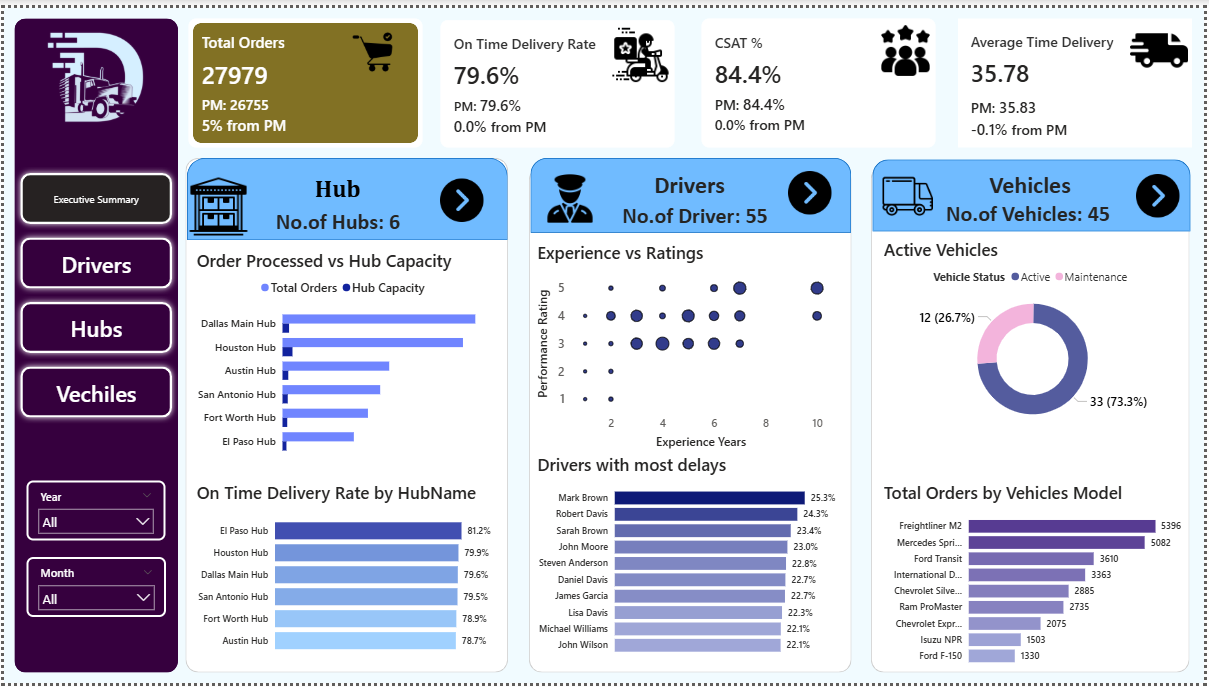

This screenshot's page, from the dashboard's own definition file:
{"tool":"powerbi","page":{"name":"Executive Summary","canvas":[1600,900],"ordinal":0},"visuals":[{"type":"group","id":"g1","title":"Group 2","box":[700,199.9,430,686.1],"z":0,"group":"g4"},{"type":"group","id":"g2","title":"Group 4","box":[242,200,430,686],"z":0},{"type":"shape","box":[14,14,218,872],"z":1000},{"type":"cardVisual","fields":{"Data":["Measure.Total Orders"]},"box":[246,14,312,172],"z":2000},{"type":"cardVisual","fields":{"Data":["Measure.On Time Delivery Rate"]},"box":[582,16.1,312,169.9],"z":3000},{"type":"image","box":[14,14,218,166],"z":4000},{"type":"clusteredBarChart","title":"Order Processed vs Hub Capacity","fields":{"Category":["Hubs.HubName"],"Y":["Hubs.Measure","Sum(Hubs.Hub Capacity)"]},"box":[252,320,404,288],"z":5000},{"type":"shape","box":[242,200,430,686],"z":6000,"group":"g2"},{"type":"shape","box":[1156,210,424.5,676],"z":6000,"group":"g6"},{"type":"shape","box":[700,211.9,430,674.1],"z":6000,"group":"g5"},{"type":"clusteredBarChart","fields":{"Category":["Hubs.HubName"],"Y":["Measure.On Time Delivery Rate"]},"box":[252,630,404,242],"z":6000},{"type":"shape","box":[702,199.9,427.5,99.7],"z":7000,"group":"g5"},{"type":"shape","box":[244,200,427.5,109.6],"z":7000,"group":"g2"},{"type":"shape","box":[1158,202,424,96],"z":7000,"group":"g6"},{"type":"card","fields":{"Values":["Measure.No.Of Hub"]},"box":[252,216,386,134],"z":7000},{"type":"cardVisual","fields":{"Data":["Measure.CSAT %"]},"box":[930,14,312,172],"z":8000},{"type":"cardVisual","fields":{"Data":["Measure.Average Time Delivery"]},"box":[1272,14,312,172],"z":9000},{"type":"textbox","box":[326,216,238,86],"z":10000},{"type":"group","id":"g3","title":"Group 2","box":[1156,202,426,684],"z":11000},{"type":"textbox","box":[1216.7,230,247.3,86],"z":11000,"group":"g3"},{"type":"textbox","box":[775.8,231.8,236.1,85.8],"z":11000,"group":"g1"},{"type":"group","id":"g4","title":"Group 3","box":[700,199.9,430,686.1],"z":12000},{"type":"textbox","box":[1278,210,180,66],"z":13000},{"type":"card","fields":{"Values":["Measure.No.of Vehicles"]},"box":[1130,230,470,86],"z":14000},{"type":"group","id":"g5","title":"Group 1","box":[700,199.9,430,686.1],"z":14001,"group":"g1"},{"type":"group","id":"g6","title":"Group 1","box":[1156,202,426,684],"z":14001,"group":"g3"},{"type":"textbox","box":[824,210,180,66],"z":15000,"group":"g4"},{"type":"clusteredBarChart","title":"Drivers with most delays","fields":{"Category":["Drivers.DriverName"],"Y":["Date Table.Delay Delivery Rate"]},"box":[706,592,408,280],"z":15000},{"type":"card","fields":{"Values":["Measure.No.Of Driver"]},"box":[728,238,386,76],"z":16000,"group":"g4"},{"type":"scatterChart","title":"Experience vs Ratings","fields":{"X":["Drivers.Experience Years"],"Y":["Drivers.Performance Rating"],"Size":["Sum(Drivers.Experience Years)1"]},"box":[706,310,408,282],"z":16000},{"type":"barChart","fields":{"Category":["Vehicles.Vehicle Model"],"Y":["Measure.Total Orders"]},"box":[1168,630,406,256],"z":17000},{"type":"donutChart","title":"Active Vehicles","fields":{"Category":["Vehicles.Vehicle Status"],"Y":["CountNonNull(Vehicles.Vehicle ID)"]},"box":[1168,306,406,262],"z":17003,"group":"g6"},{"type":"image","box":[1012,212,124,68],"z":18000},{"type":"image","box":[548,222,124,68],"z":19000},{"type":"image","box":[1476,216,124,68],"z":20000},{"type":"pageNavigator","box":[14,212,218,344],"z":21000},{"type":"slicer","fields":{"Values":["Date Table.Year"]},"box":[30,630,185,80],"z":22000},{"type":"slicer","fields":{"Values":["Date Table.Month"]},"box":[30,732,186,80],"z":23000},{"type":"image","box":[445,25,90,65],"z":24000},{"type":"image","box":[1157.5,7.5,87.5,97.5],"z":25000},{"type":"image","box":[785,15,125,90],"z":26000},{"type":"image","box":[1495,7.5,87.5,97.5],"z":27000},{"type":"image","box":[242.5,215,87.5,97.5],"z":28000},{"type":"image","box":[705,210,97.5,87.5],"z":29000},{"type":"image","box":[1165,202.5,77.5,97.5],"z":30000}]}

Visuals, with their boxes in screenshot pixels (x1, y1, x2, y2), scaled from the page's 1600x900 canvas onto the 1209x687 screenshot:
"Group 2" group: [529, 153, 854, 676]
"Group 4" group: [183, 153, 508, 676]
shape: [11, 11, 175, 676]
cardVisual - Measure.Total Orders: [186, 11, 422, 142]
cardVisual - Measure.On Time Delivery Rate: [440, 12, 676, 142]
image: [11, 11, 175, 137]
"Order Processed vs Hub Capacity" clusteredBarChart: [190, 244, 496, 464]
shape: [183, 153, 508, 676]
shape: [874, 160, 1194, 676]
shape: [529, 162, 854, 676]
clusteredBarChart - Hubs.HubName x Measure.On Time Delivery Rate: [190, 481, 496, 666]
shape: [530, 153, 853, 229]
shape: [184, 153, 507, 236]
shape: [875, 154, 1195, 227]
card - Measure.No.Of Hub: [190, 165, 482, 267]
cardVisual - Measure.CSAT %: [703, 11, 938, 142]
cardVisual - Measure.Average Time Delivery: [961, 11, 1197, 142]
textbox: [246, 165, 426, 231]
"Group 2" group: [874, 154, 1195, 676]
textbox: [919, 176, 1106, 241]
textbox: [586, 177, 765, 242]
"Group 3" group: [529, 153, 854, 676]
textbox: [966, 160, 1102, 211]
card - Measure.No.of Vehicles: [854, 176, 1208, 241]
"Group 1" group: [529, 153, 854, 676]
"Group 1" group: [874, 154, 1195, 676]
textbox: [623, 160, 759, 211]
"Drivers with most delays" clusteredBarChart: [533, 452, 842, 666]
card - Measure.No.Of Driver: [550, 182, 842, 240]
"Experience vs Ratings" scatterChart: [533, 237, 842, 452]
barChart - Vehicles.Vehicle Model x Measure.Total Orders: [883, 481, 1189, 676]
"Active Vehicles" donutChart: [883, 234, 1189, 434]
image: [765, 162, 858, 214]
image: [414, 169, 508, 221]
image: [1115, 165, 1208, 217]
pageNavigator: [11, 162, 175, 424]
slicer - Date Table.Year: [23, 481, 162, 542]
slicer - Date Table.Month: [23, 559, 163, 620]
image: [336, 19, 404, 69]
image: [875, 6, 941, 80]
image: [593, 11, 688, 80]
image: [1130, 6, 1196, 80]
image: [183, 164, 249, 239]
image: [533, 160, 606, 227]
image: [880, 155, 939, 229]
